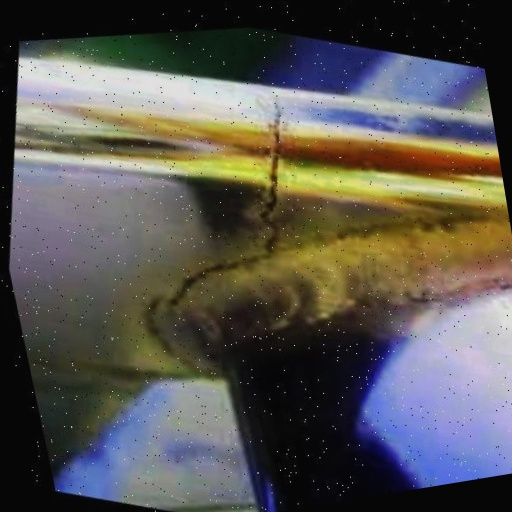crack: (213, 76, 332, 273)
